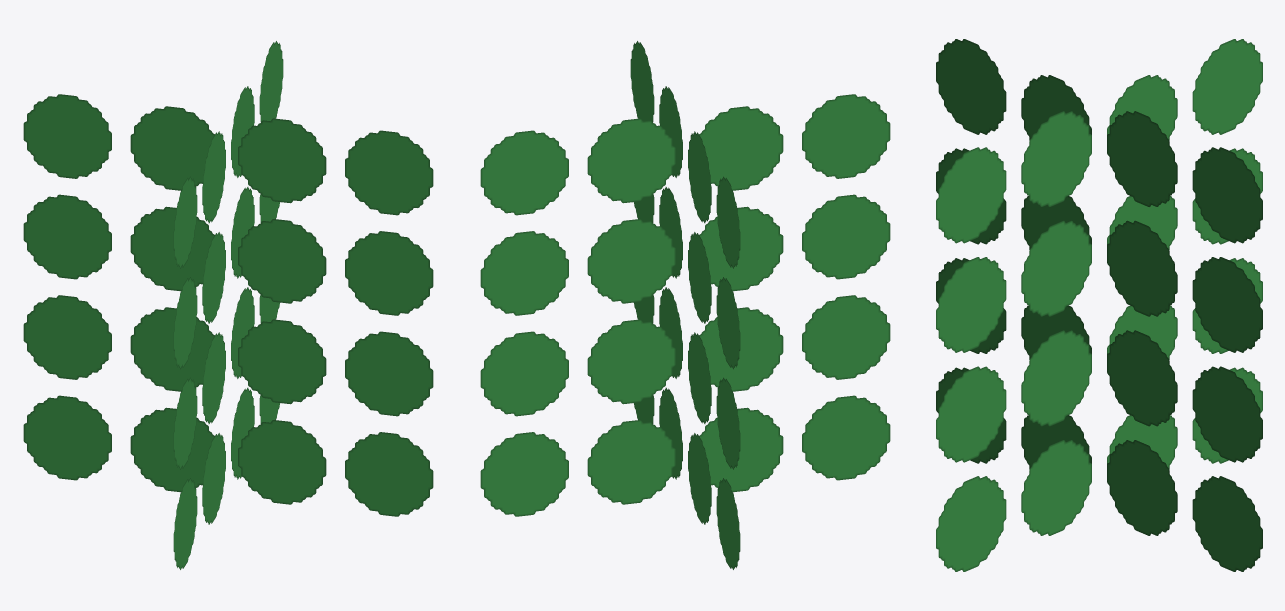
File: leaf_card.glb
3 views of the same model, side by side, from view 1: azimuth 30°, elevation 25°; view 2: azimuth 150°, elevation 25°; view 3: azimuth 270°, elevation 25° (orthographic). The views are drawn at different scales.
Parts seen in each view (by area): view 1: Card.1, Card.0; view 2: Card.0, Card.1; view 3: Card.0, Card.1.
Part boxes in pixels (x1,y1,x2,y2): Card.1: (23, 94, 433, 516); Card.0: (173, 41, 283, 569); Card.0: (480, 94, 890, 516); Card.1: (630, 41, 740, 569); Card.0: (936, 39, 1262, 571); Card.1: (936, 39, 1262, 571).
Size of the model in its own units: 1.41 by 2 by 1.41.
Materials: 1 (1 with a texture image).
